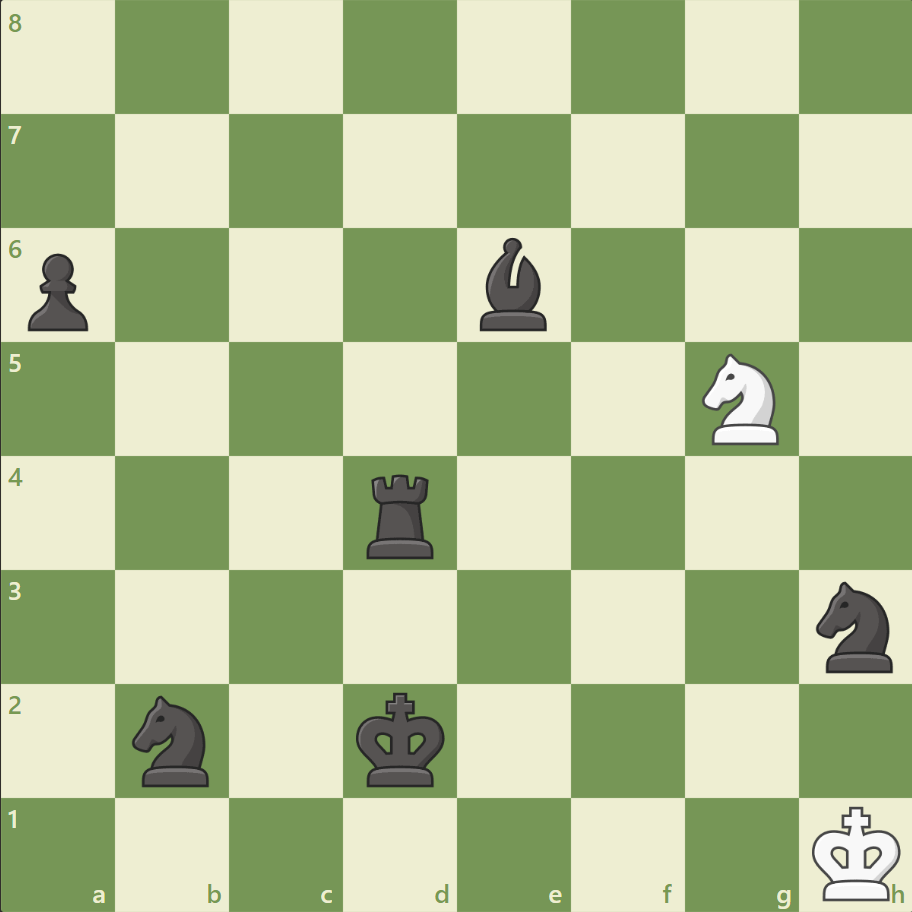K: (806, 798, 906, 906)
N: (692, 348, 789, 450)
b: (471, 233, 555, 336)
k: (351, 685, 451, 793)
n: (124, 688, 222, 791), (806, 575, 903, 677)
p: (20, 246, 95, 337)
r: (360, 466, 442, 563)
